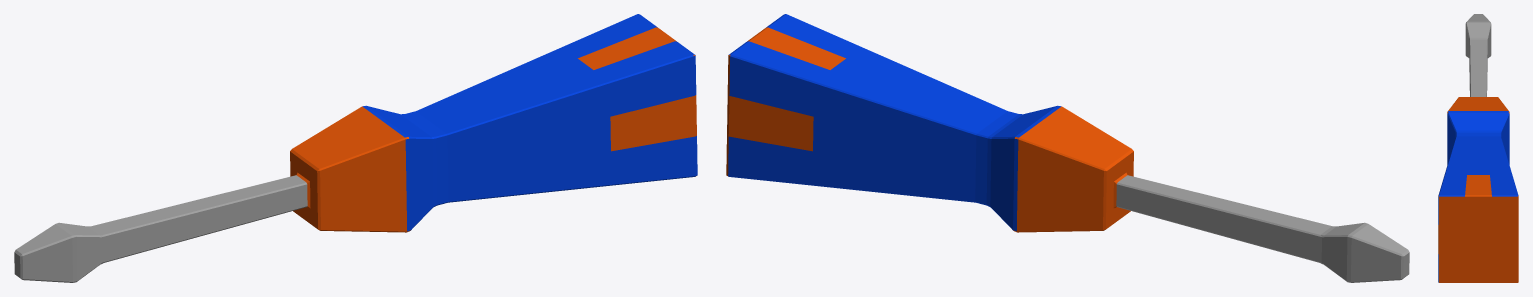
Rendered from otvyortka.fbx.
The picture shows the model from 3 angles, left to right: view 1: azimuth 30°, elevation 25°; view 2: azimuth 150°, elevation 25°; view 3: azimuth 270°, elevation 25°; orthographic projection. The views are drawn at different scales.
Visible parts, largest first — view 1: Cube; view 2: Cube; view 3: Cube.
Boxes of the visible parts, <box> form: Cube: <box>14,14,697,282</box>; Cube: <box>726,14,1409,282</box>; Cube: <box>1438,14,1518,282</box>.
Size of the model in its own units: 89.87 by 16.15 by 13.53.
